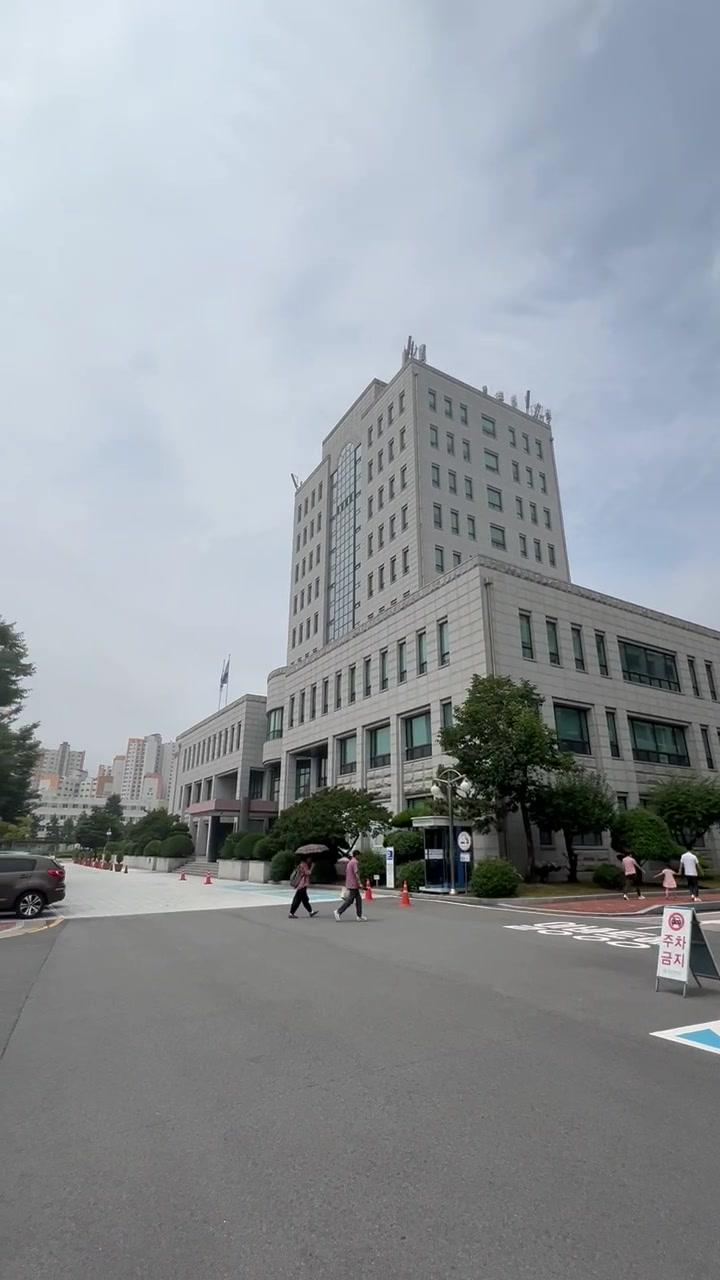building: (276, 346, 572, 712)
